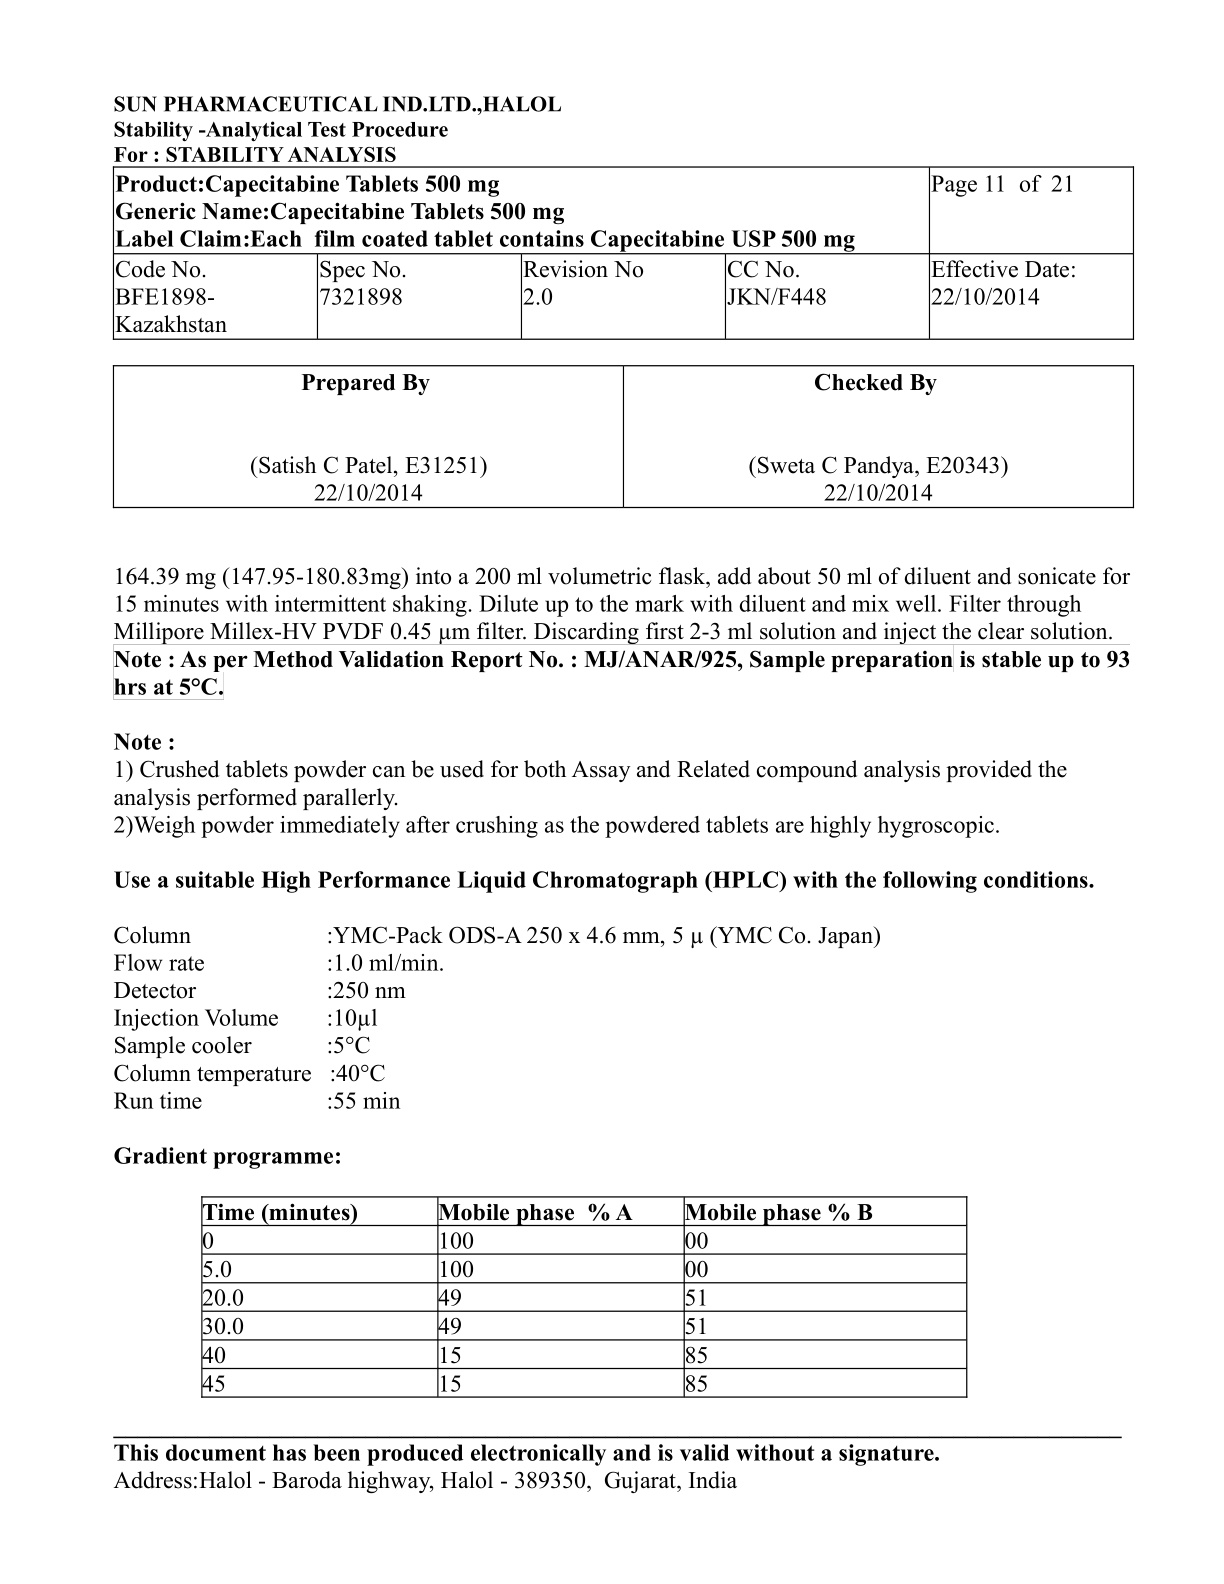full_lined: (198, 1194, 968, 1400), (111, 363, 1137, 510)
merged_cells: (112, 166, 1137, 342)
nolines: (111, 921, 886, 1113)
